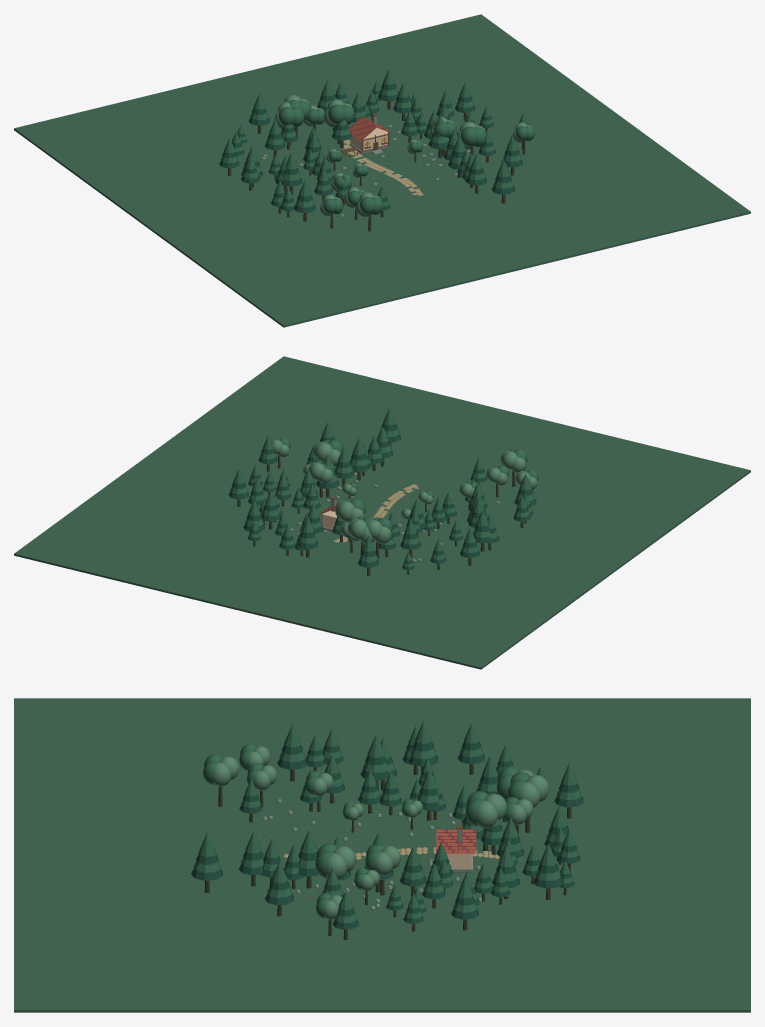
Rendered from orchard-D7oRn7t3.glb.
3 views of the same model, one above another, from view 1: azimuth 30°, elevation 25°; view 2: azimuth 150°, elevation 25°; view 3: azimuth 270°, elevation 25° (orthographic). The views are drawn at different scales.
Parts seen in each view (by area): view 1: Forest_ground, Forest_leaf, Forest_darkleaf, Forest_lightleaf, Forest_bark, Forest_path; view 2: Forest_ground, Forest_leaf, Forest_darkleaf, Forest_lightleaf, Forest_bark; view 3: Forest_ground, Forest_leaf, Forest_darkleaf, Forest_lightleaf, Forest_bark, Forest_roof, Forest_stone.
Part boxes in pixels (<box>): Forest_ground: <box>14,14,750,327</box>; Forest_leaf: <box>221,68,534,214</box>; Forest_darkleaf: <box>219,83,528,213</box>; Forest_lightleaf: <box>259,94,534,217</box>; Forest_bark: <box>228,101,525,231</box>; Forest_path: <box>343,139,423,195</box>; Forest_ground: <box>14,356,750,669</box>; Forest_leaf: <box>230,407,538,566</box>; Forest_darkleaf: <box>228,423,536,570</box>; Forest_lightleaf: <box>271,439,537,563</box>; Forest_bark: <box>237,442,526,575</box>; Forest_ground: <box>14,698,750,1012</box>; Forest_leaf: <box>193,721,581,923</box>; Forest_darkleaf: <box>191,741,583,929</box>; Forest_lightleaf: <box>212,746,549,919</box>; Forest_bark: <box>204,764,571,939</box>; Forest_roof: <box>436,829,476,853</box>; Forest_stone: <box>262,799,482,910</box>.
Bounding box in the file's own units: 100 × 9.38 × 100.
